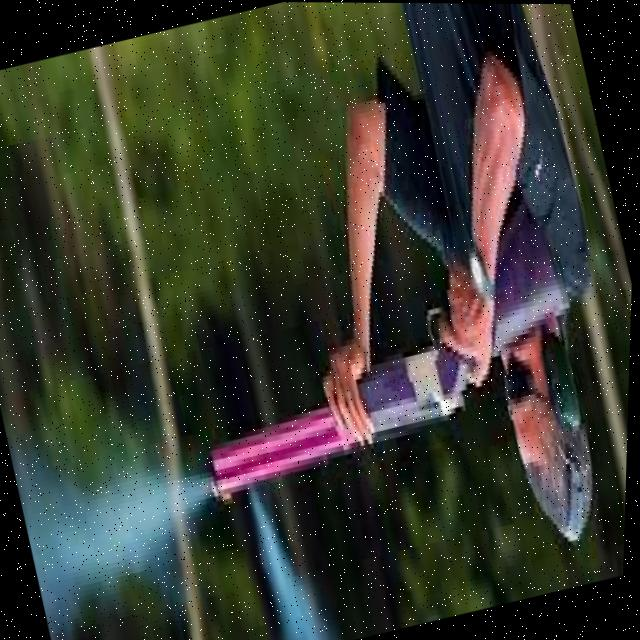firearm: (160, 179, 605, 515)
